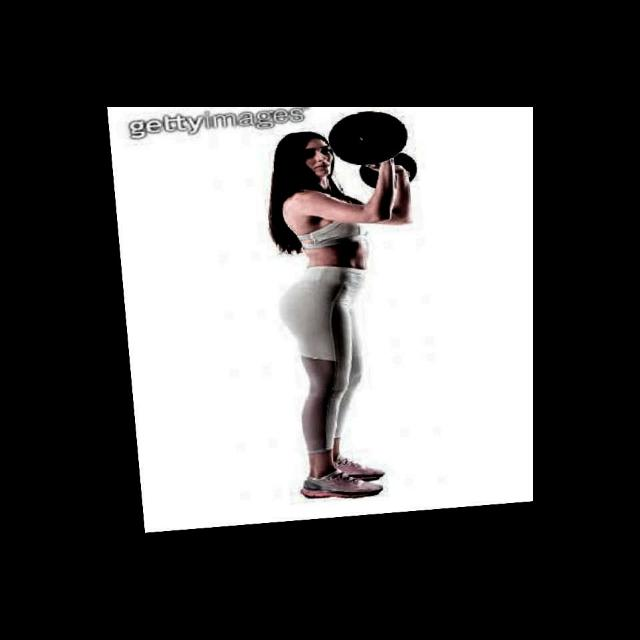barbell: (323, 107, 411, 175)
